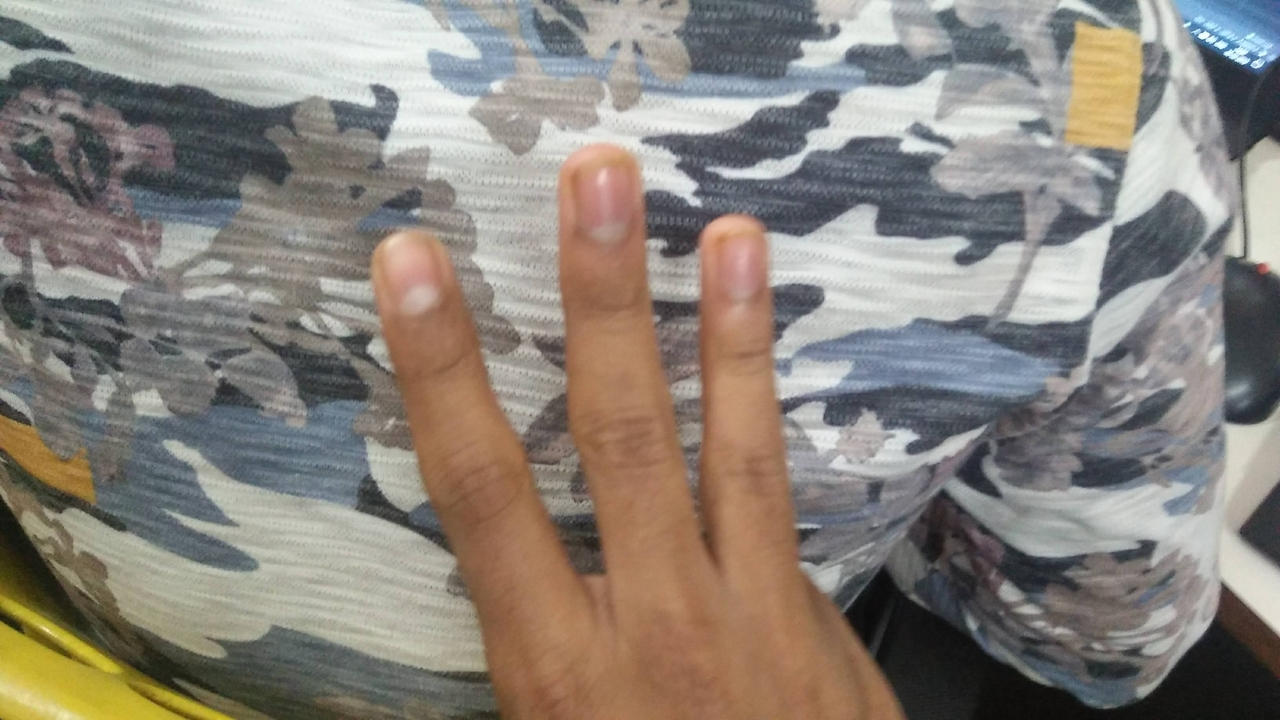fingertip: (556, 142, 648, 258), (364, 226, 465, 326), (690, 206, 780, 317)
